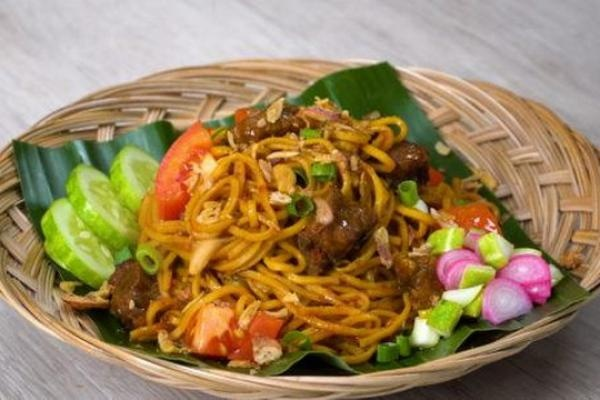mie_aceh: (146, 99, 495, 359)
